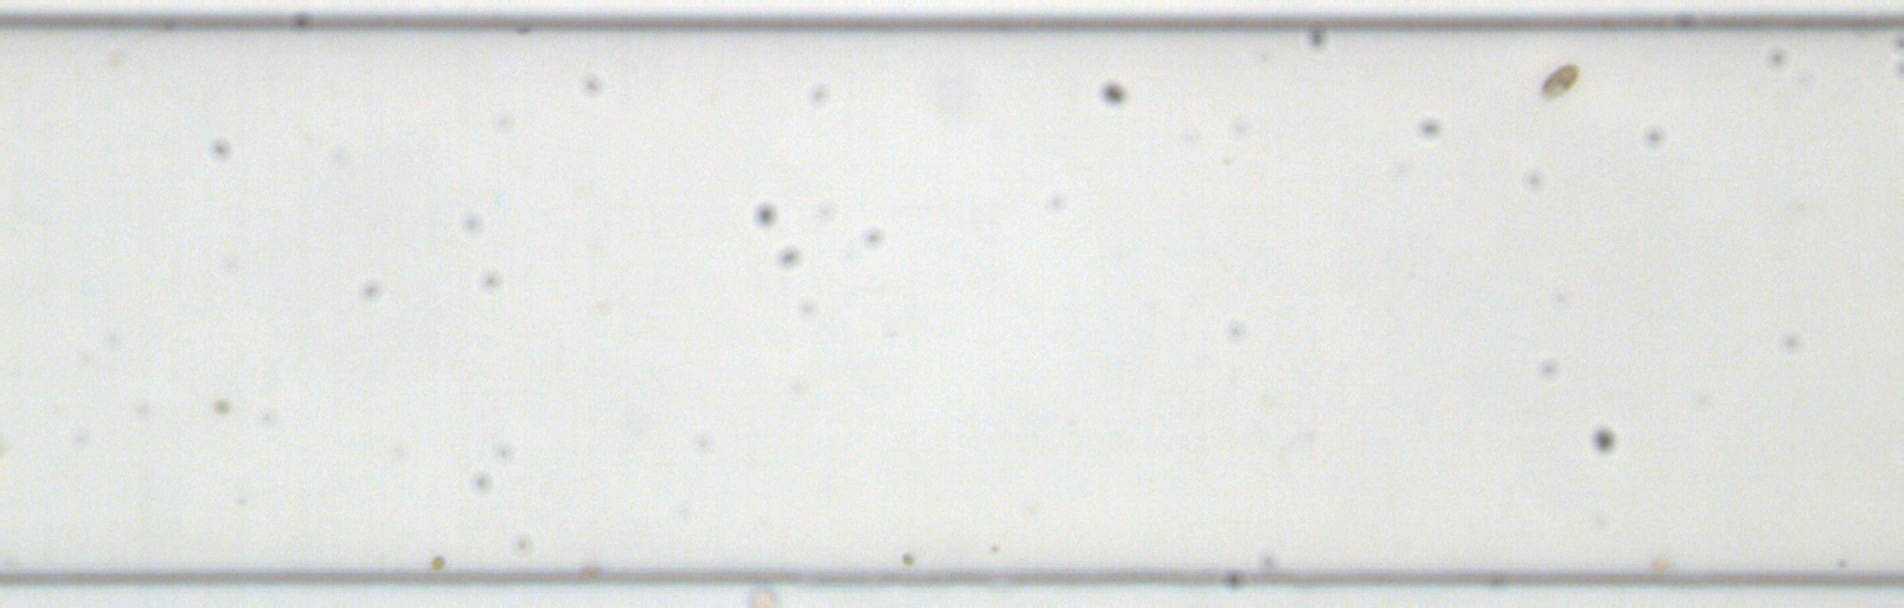Chlorella: (212, 394, 232, 414), (429, 555, 444, 569), (899, 551, 914, 566)
Dunaliella salina: (1538, 59, 1582, 100)
